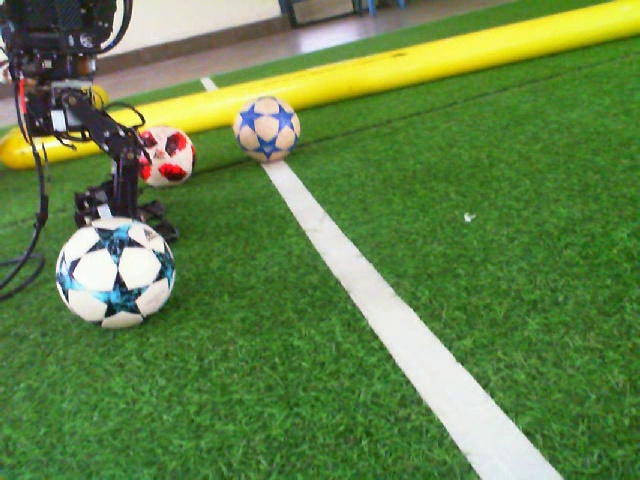ball: (53, 215, 178, 333), (231, 93, 303, 165), (133, 124, 198, 191)
